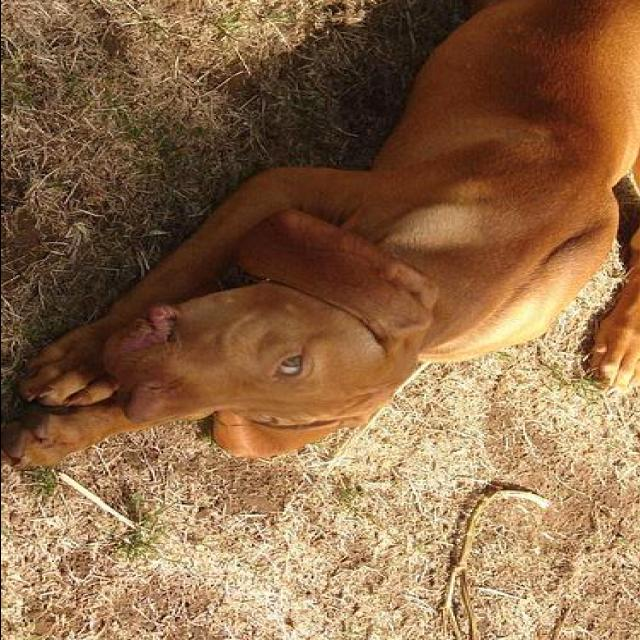vizsla: (2, 1, 638, 474)
